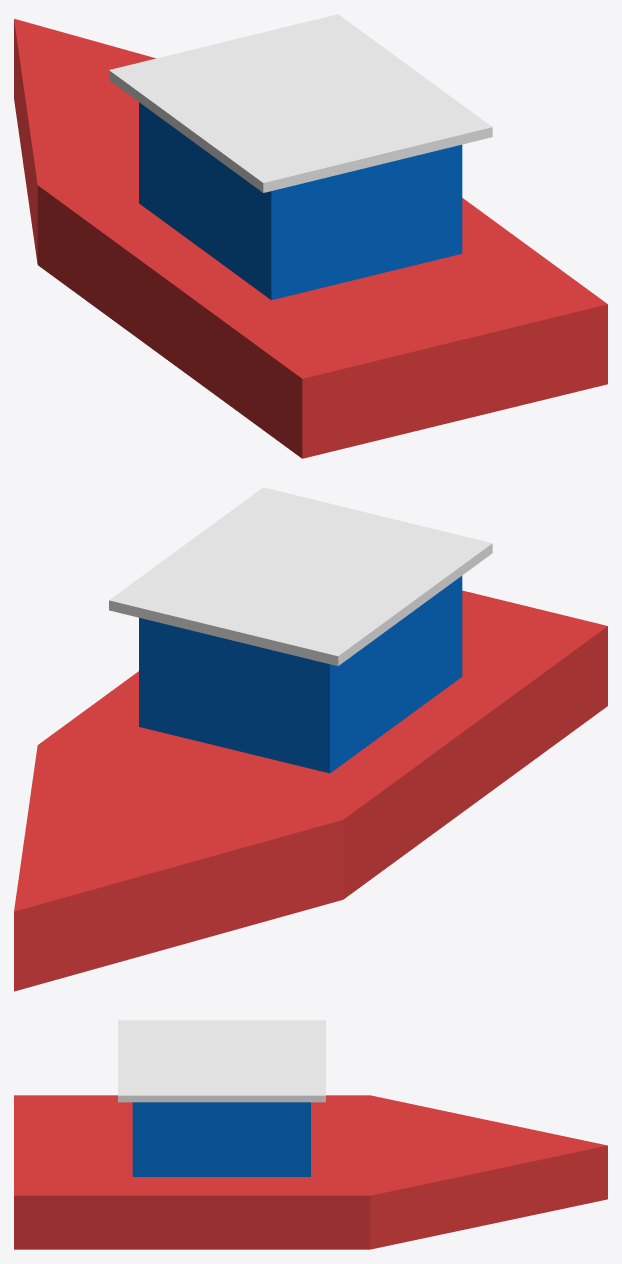
Rendered from boat_1.glb.
3 views of the same model, one above another, from view 1: azimuth 30°, elevation 25°; view 2: azimuth 150°, elevation 25°; view 3: azimuth 270°, elevation 25° (orthographic). The views are drawn at different scales.
Bounding box in the file's own units: 1.6 × 1.05 × 4.
